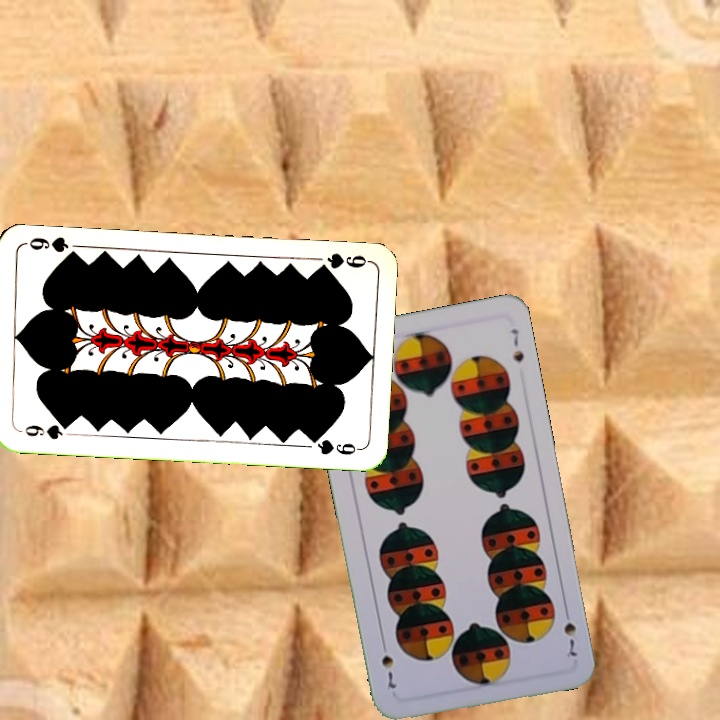G9: (312, 249, 371, 275), (21, 420, 72, 442)
S7: (559, 603, 580, 660)
